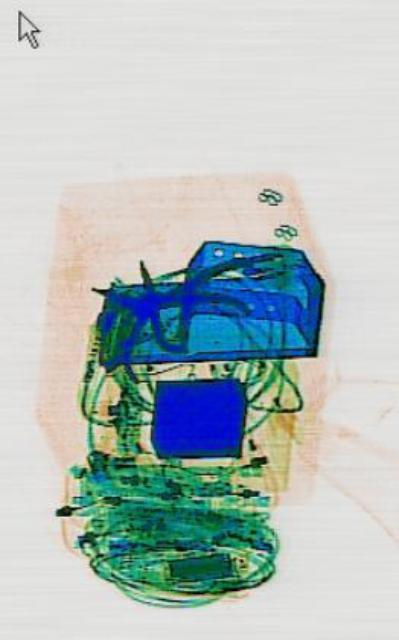Pliers: (68, 188, 251, 448)
